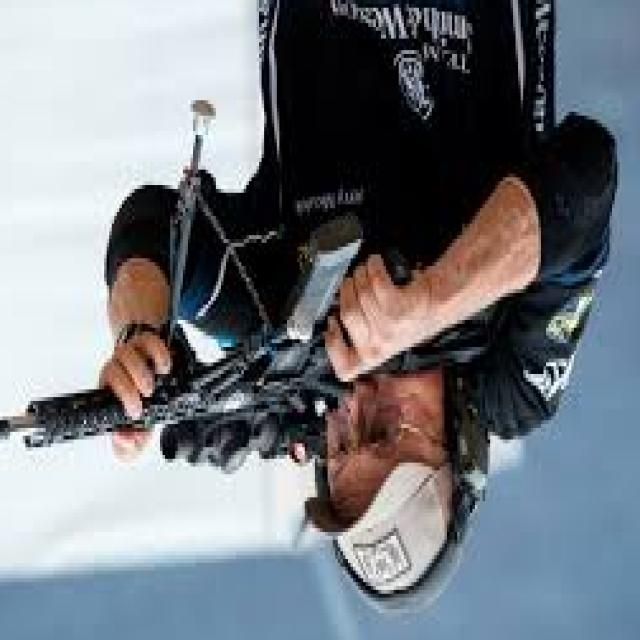gun: (0, 204, 498, 490)
